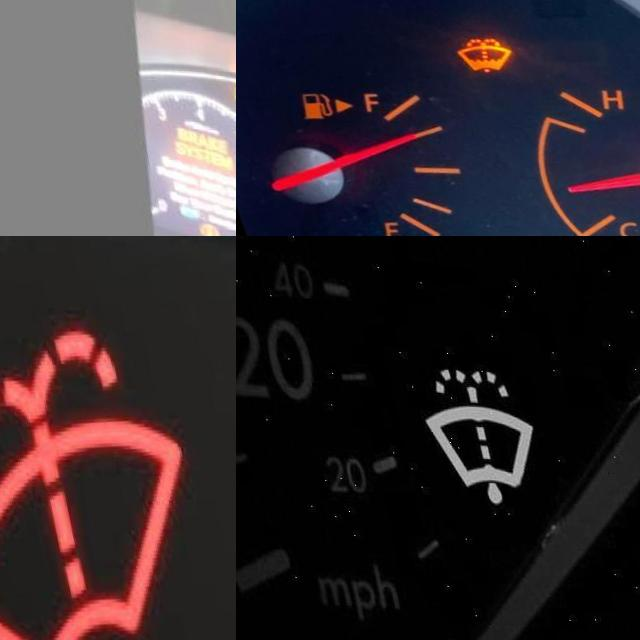Washer Fluid: (0, 319, 211, 640), (399, 358, 537, 508)
